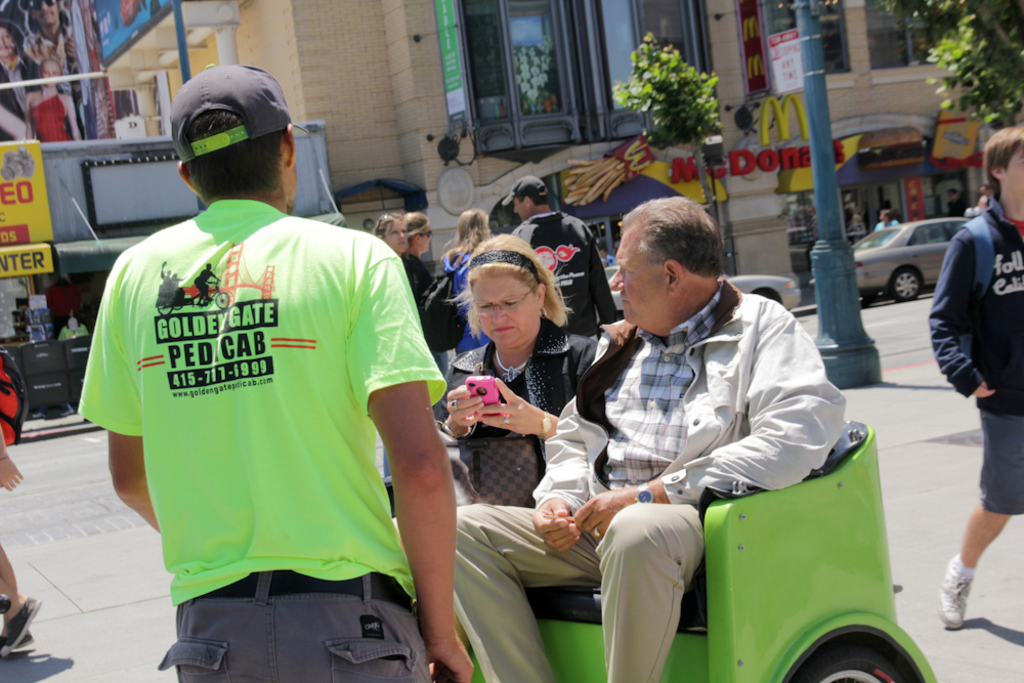Car: (846, 204, 963, 301), (593, 266, 794, 311)
